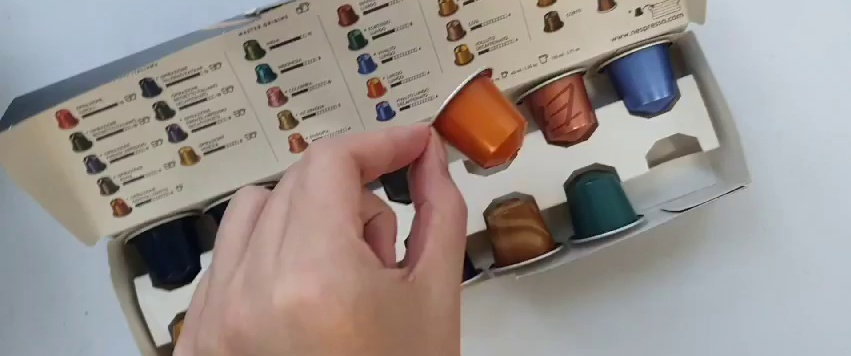capsule_5: (427, 65, 528, 172)
